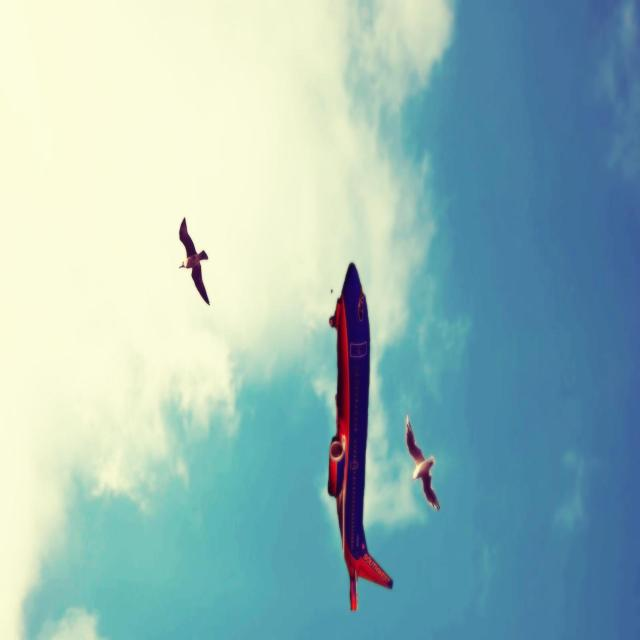airplane: (327, 261, 393, 611)
